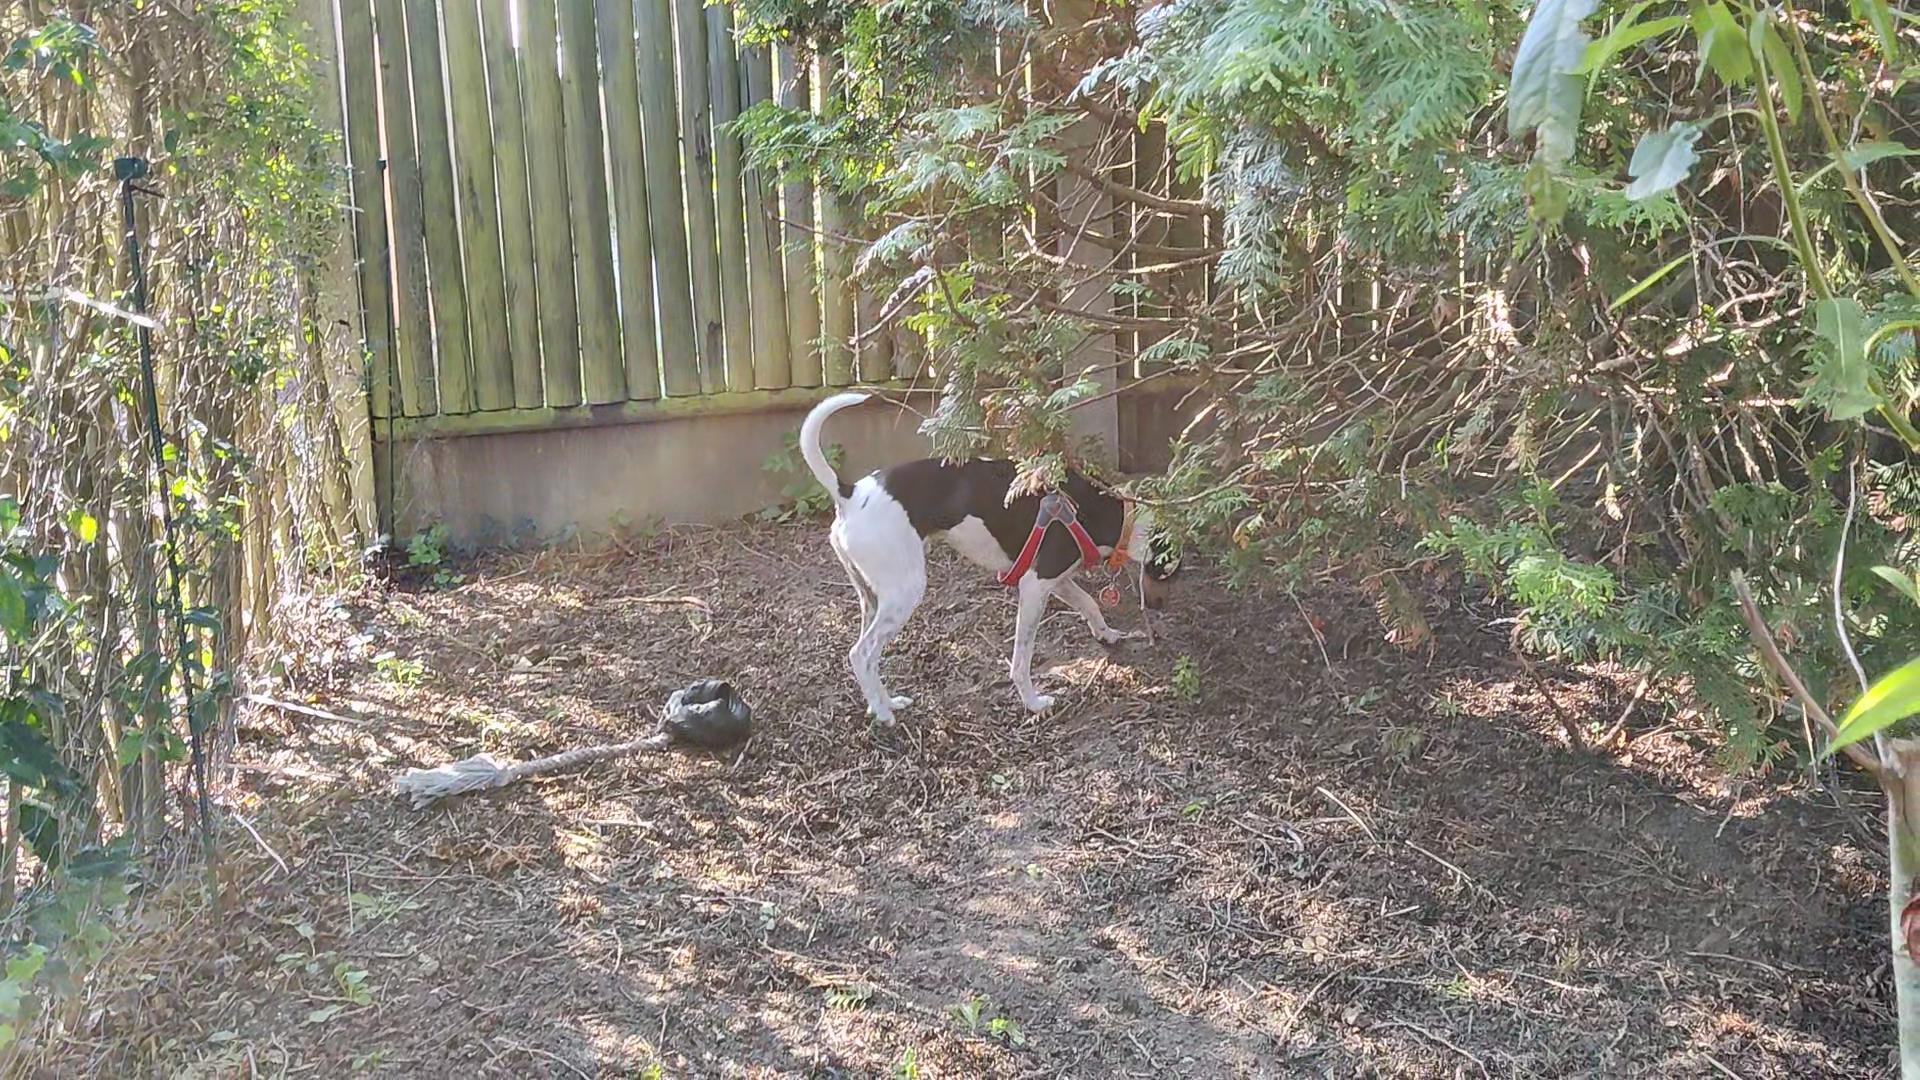Dog: (791, 388, 1193, 738)
